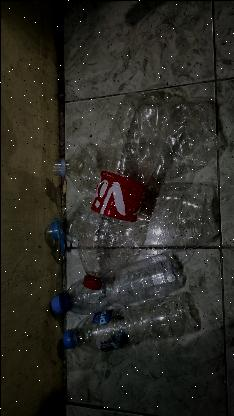Plastic Bottle: (60, 84, 222, 364)
